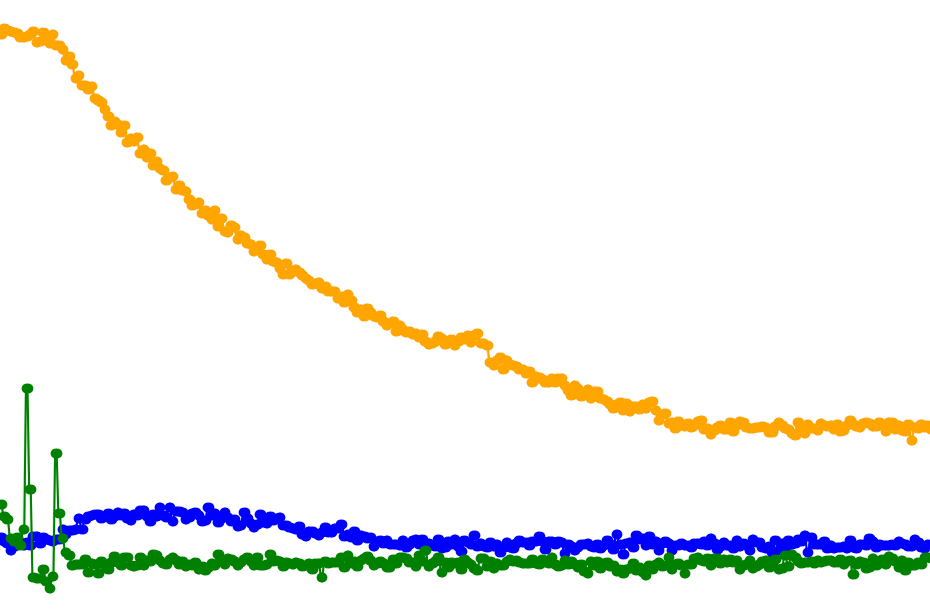CO2 Problem: (311, 0, 583, 616), (349, 0, 583, 616), (777, 0, 930, 616), (661, 0, 777, 616), (77, 0, 155, 616), (155, 0, 233, 616), (233, 0, 311, 616), (583, 0, 661, 616), (0, 0, 77, 616)
Condensation CO2: (777, 0, 930, 616), (661, 0, 777, 616), (77, 0, 155, 616), (155, 0, 233, 616), (583, 0, 661, 616)
Condensation O2: (661, 0, 777, 616), (583, 0, 661, 616)
High CO2: (311, 0, 544, 616), (777, 0, 930, 616), (77, 0, 155, 616), (155, 0, 233, 616), (233, 0, 311, 616), (0, 0, 77, 616)
High O2: (311, 0, 661, 616), (777, 0, 930, 616), (661, 0, 777, 616)
Low CO2: (233, 0, 661, 616), (661, 0, 777, 616), (77, 0, 155, 616), (155, 0, 233, 616), (583, 0, 661, 616), (0, 0, 77, 616), (311, 0, 349, 616)
Low O2: (661, 0, 930, 616), (777, 0, 930, 616)
Normal: (77, 0, 661, 616), (311, 0, 661, 616), (311, 0, 622, 616), (311, 0, 583, 616), (661, 0, 930, 616), (77, 0, 311, 616), (349, 0, 583, 616), (311, 0, 544, 616), (155, 0, 311, 616), (777, 0, 930, 616), (661, 0, 777, 616), (77, 0, 155, 616), (155, 0, 233, 616), (233, 0, 311, 616), (583, 0, 661, 616), (0, 0, 77, 616), (661, 0, 738, 616), (311, 0, 349, 616)
O2 Problem: (777, 0, 930, 616), (661, 0, 777, 616)
